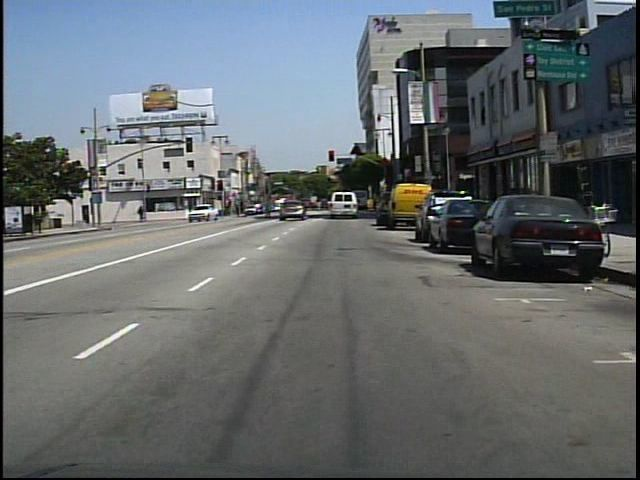person: (263, 193, 280, 222), (138, 205, 147, 223)
